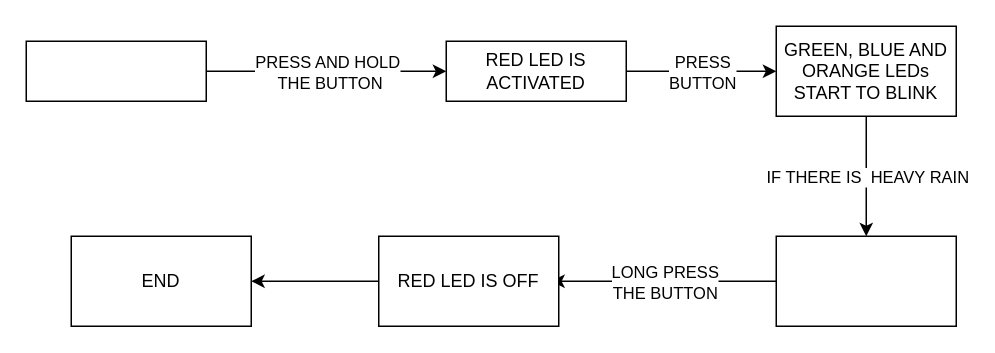
This 995x353 diagram has some shape labels left out. Here are the shapes that lost their labels. From the top down, the centre of each, then its label:
the point at 115,70: START
the point at 865,280: GREEN, BLUE AND ORANGE LEDs START TO BLINK FASTER
